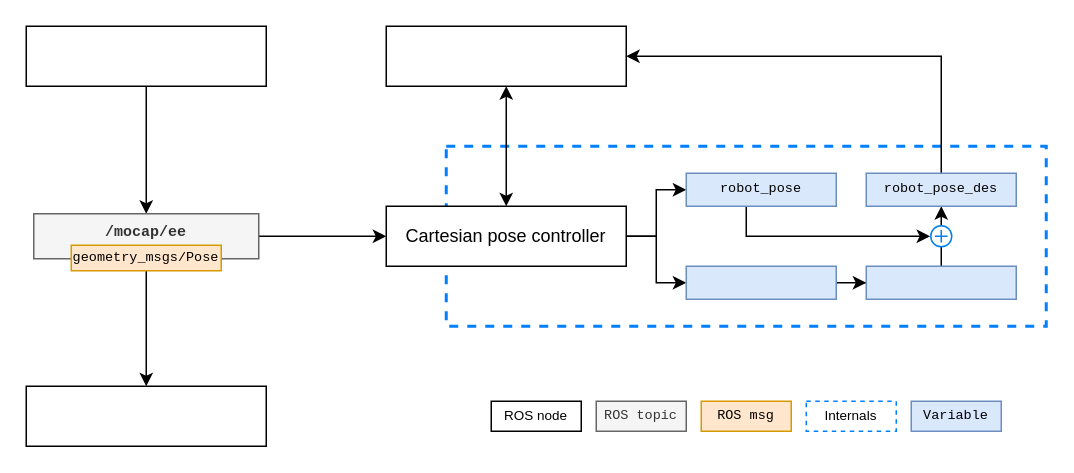
Image size: 1074x473. Some labels were removed from this diagram. The shapes that lost their labels are listed below. From the top down, each one's box as (x1, y1, x2, y2) in pixels, then its label:
(25, 25, 266, 86): Motion capture system
(385, 25, 626, 86): Robot
(685, 265, 836, 299): marker_pose
(865, 265, 1016, 299): marker_pose_diff
(25, 385, 266, 446): PlotJuggler
